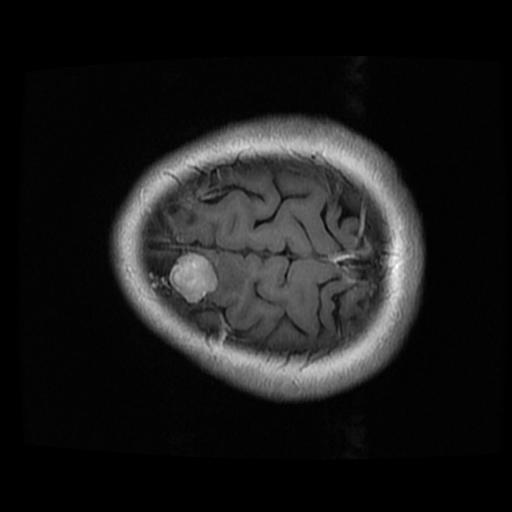meningioma: (167, 253, 217, 304)
